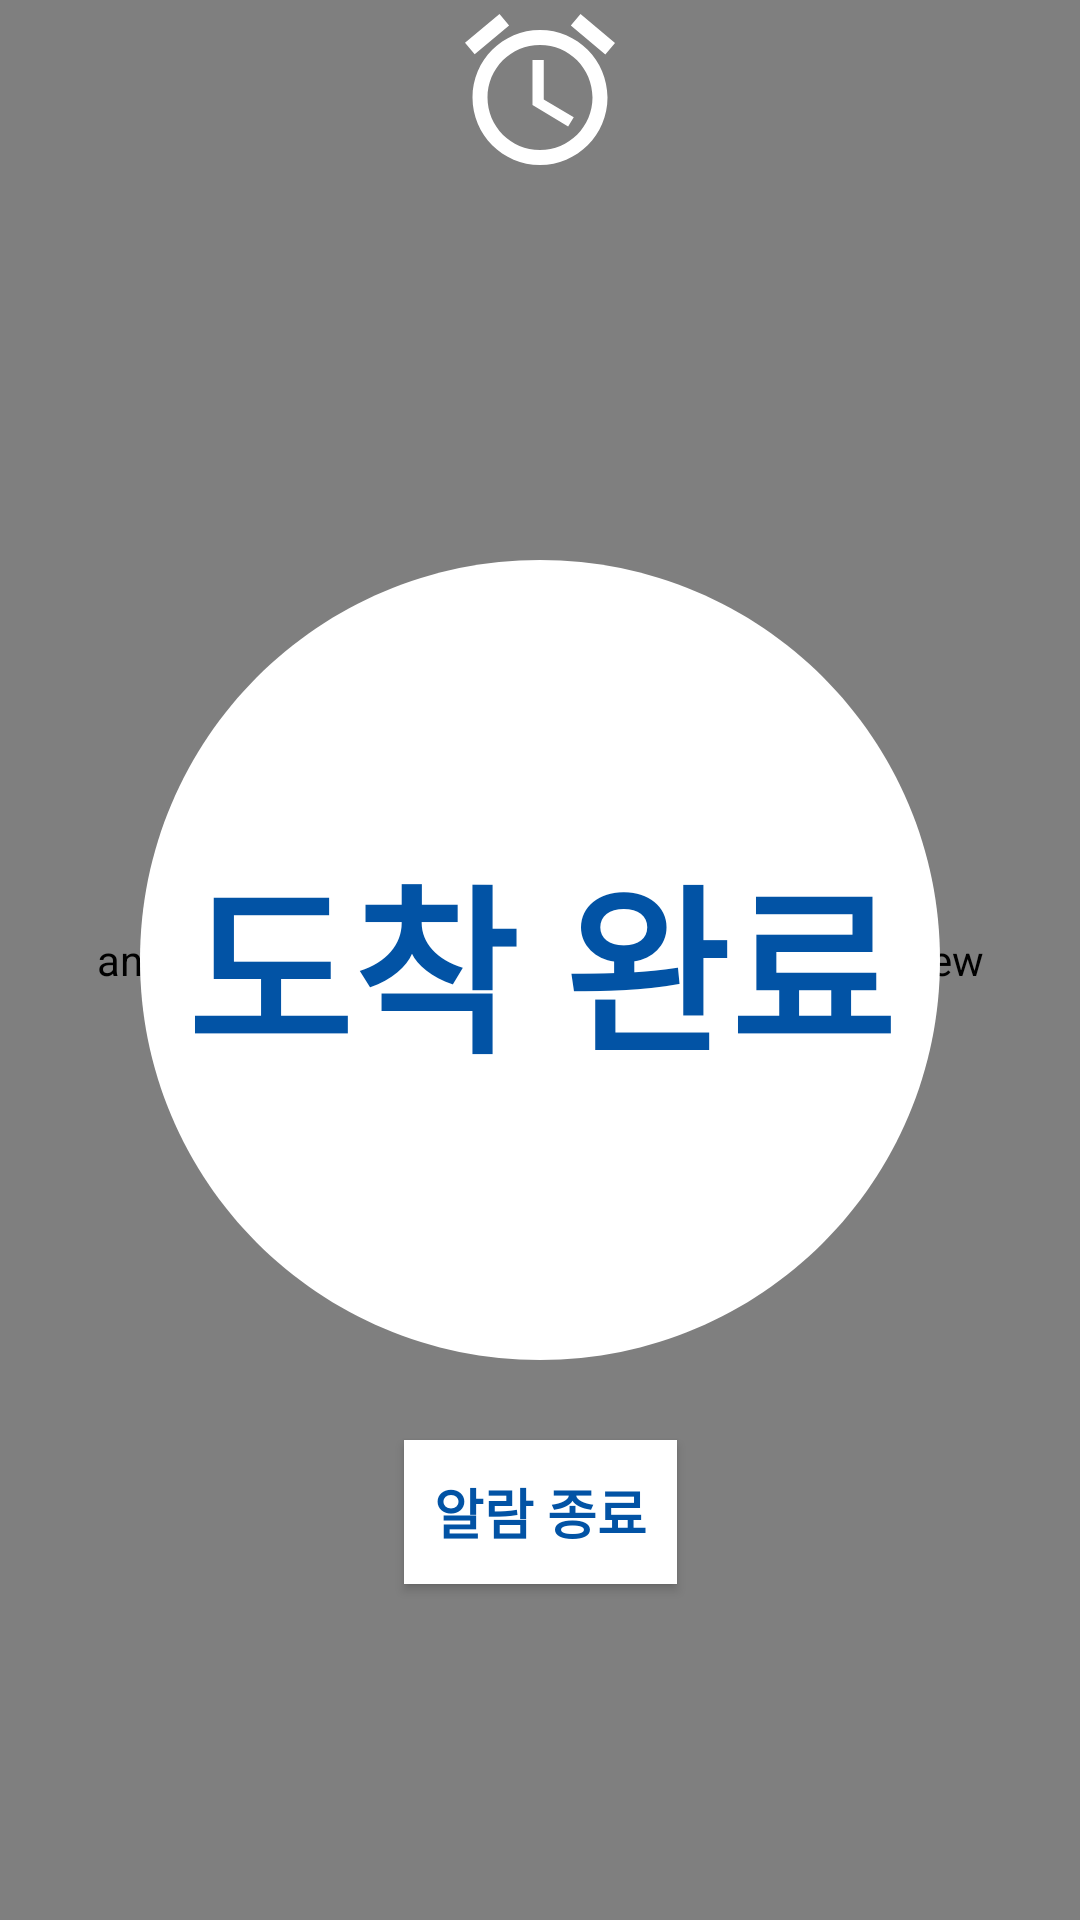

Screen size 1080px×1920px. Icon name, then its box in pixels as (x1, y1, x2, y2):
access alarm: (465, 14, 615, 165)
